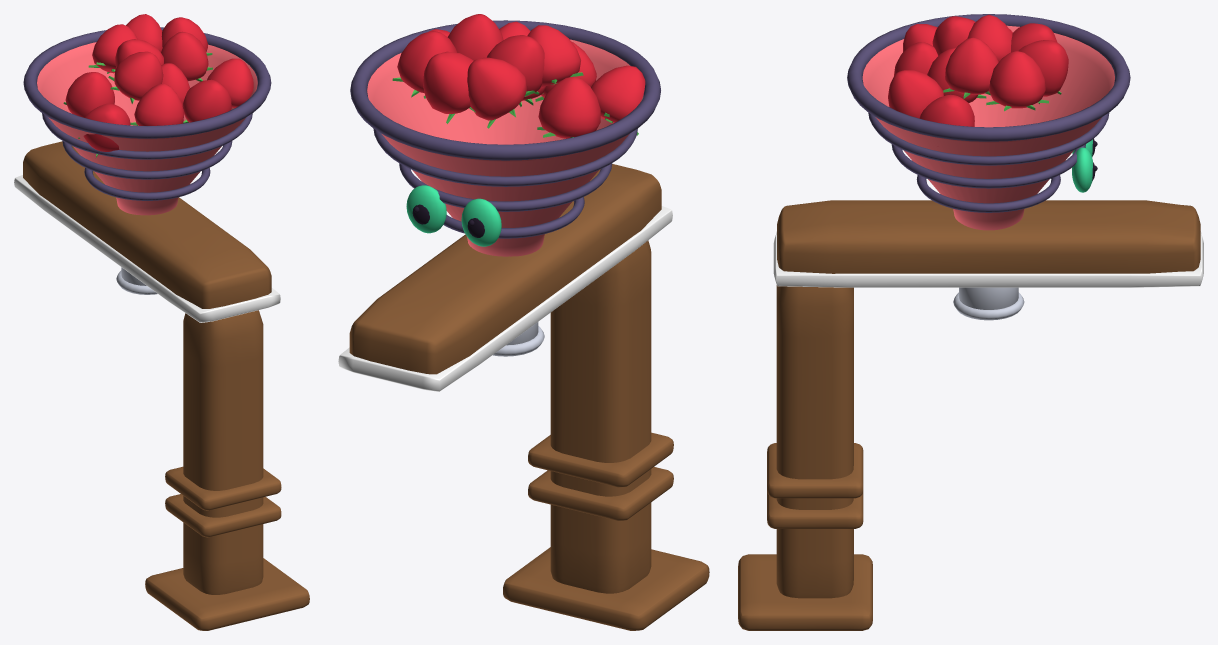
File: CakeHopper.obj
3 renders of one model, left to right at view 1: azimuth 30°, elevation 25°; view 2: azimuth 150°, elevation 25°; view 3: azimuth 270°, elevation 25°, orthographic. The views are drawn at different scales.
Parts seen in each view (by area): view 1: Frame, Berries, Rim, Hopper, Stripe, Chute; view 2: Frame, Berries, Rim, Hopper, Stripe, Eyes, Chute, BerryLeaves, Pupils; view 3: Frame, Berries, Rim, Hopper, Stripe, Chute, Eyes.
Boxes of the visible parts, box(x1,y1,x2,y2) form: Frame: box(23, 141, 309, 630); Berries: box(65, 14, 253, 151); Rim: box(23, 27, 271, 200); Hopper: box(37, 42, 257, 215); Stripe: box(14, 175, 280, 322); Chute: box(116, 267, 157, 294); Frame: box(349, 164, 709, 630); Berries: box(397, 14, 645, 138); Rim: box(350, 20, 660, 238); Hopper: box(367, 39, 643, 256); Stripe: box(338, 206, 672, 391); Eyes: box(406, 185, 501, 246); Chute: box(493, 322, 544, 356); BerryLeaves: box(392, 72, 638, 137); Pupils: box(412, 204, 484, 237); Frame: box(738, 200, 1200, 630); Berries: box(888, 14, 1068, 126); Rim: box(847, 14, 1130, 212); Hopper: box(862, 25, 1114, 230); Stripe: box(773, 232, 1203, 287); Chute: box(953, 287, 1024, 320); Eyes: box(1072, 139, 1092, 192).
Size of the model in its own units: 5.88 by 13.29 by 9.66.
